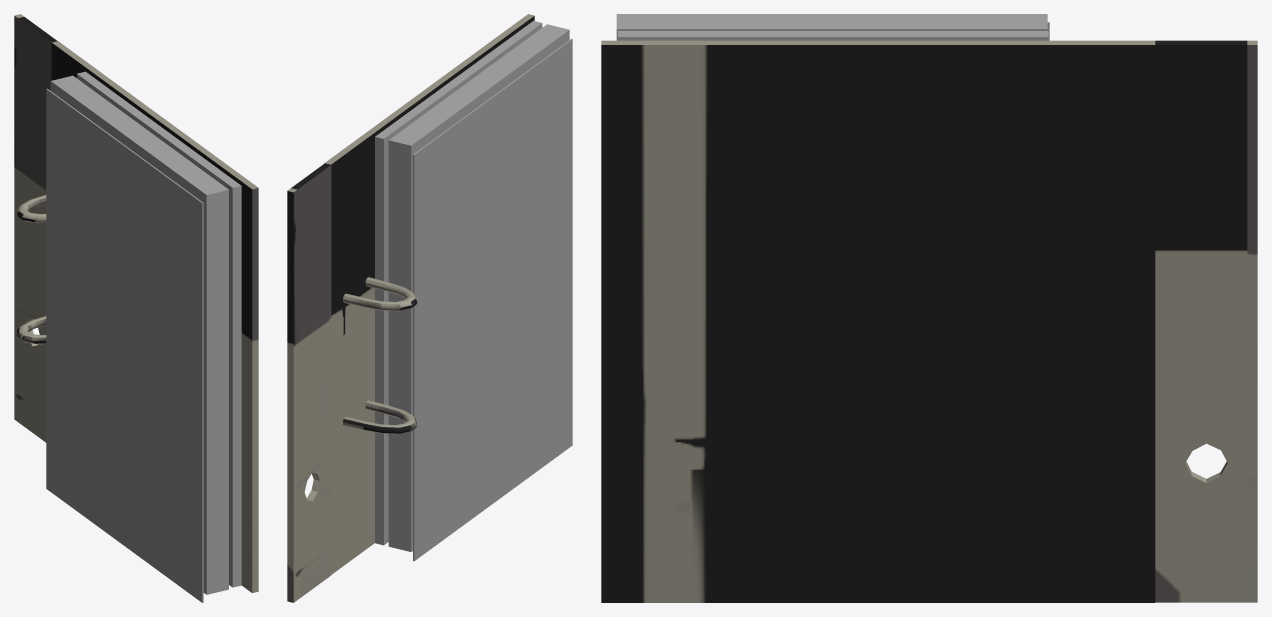
The model's file is AktenordnerPart2.fbx.
The picture shows the model from 3 angles, left to right: view 1: azimuth 30°, elevation 25°; view 2: azimuth 150°, elevation 25°; view 3: azimuth 270°, elevation 25°; orthographic projection. The views are drawn at different scales.
Visible parts, largest first — view 1: paper 1, paper o2, back, base, paper 03; view 2: paper 1, base, back, paper o2, paper 03; view 3: base, back, paper o2, paper 03.
Part boxes in pixels (<box>): paper 1: <box>46,88,203,602</box>; paper o2: <box>50,75,228,594</box>; back: <box>14,14,57,442</box>; base: <box>17,41,258,592</box>; paper 03: <box>77,71,241,587</box>; paper 1: <box>413,38,572,561</box>; base: <box>324,14,534,574</box>; back: <box>287,163,331,602</box>; paper o2: <box>388,24,569,551</box>; paper 03: <box>375,21,542,545</box>; base: <box>601,40,1155,602</box>; back: <box>1155,40,1257,602</box>; paper o2: <box>616,14,1047,40</box>; paper 03: <box>618,31,1048,40</box>.
Size of the model in its own units: 4.96 by 30.3 by 31.99.
